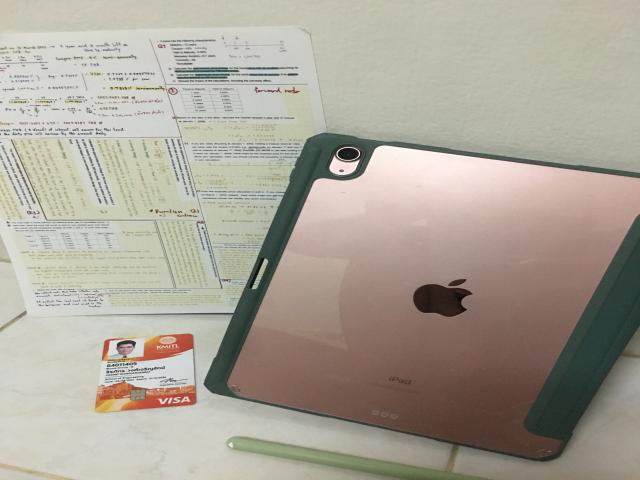paper: (0, 27, 362, 317)
